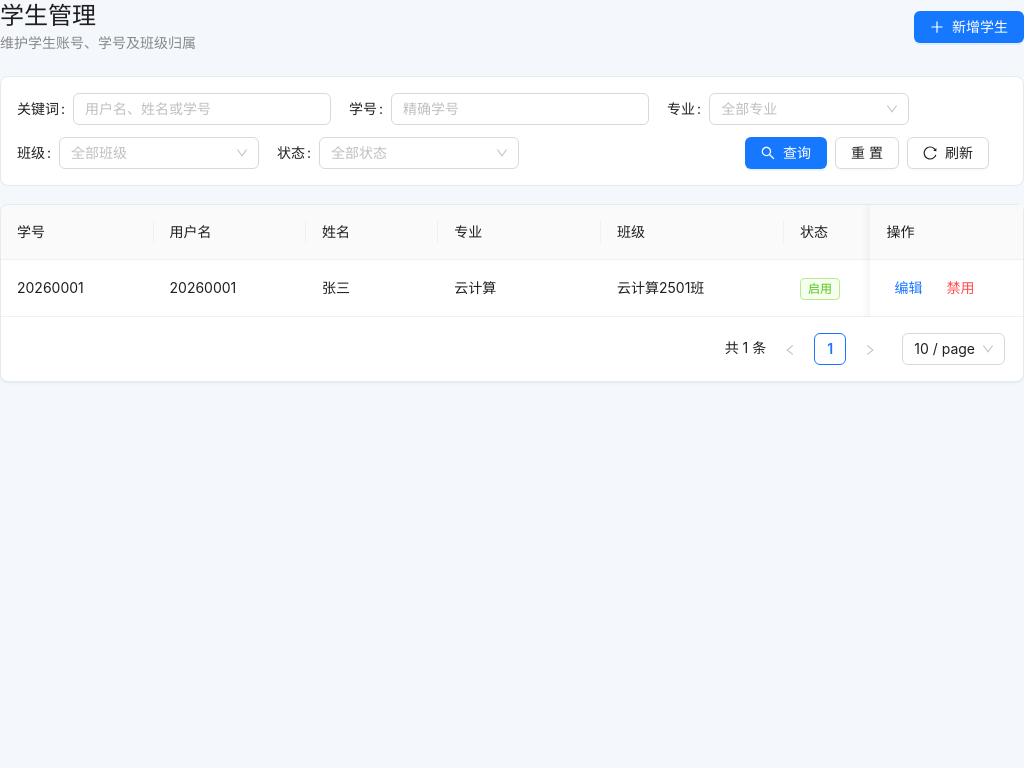
it: student management › loads active major options from the existing major API
The image size is (1024, 768).
Check: the text "张三" is shown, box [306,260,438,317]
Click the button "新增学生" at (969, 27), box [914,11,1023,43]
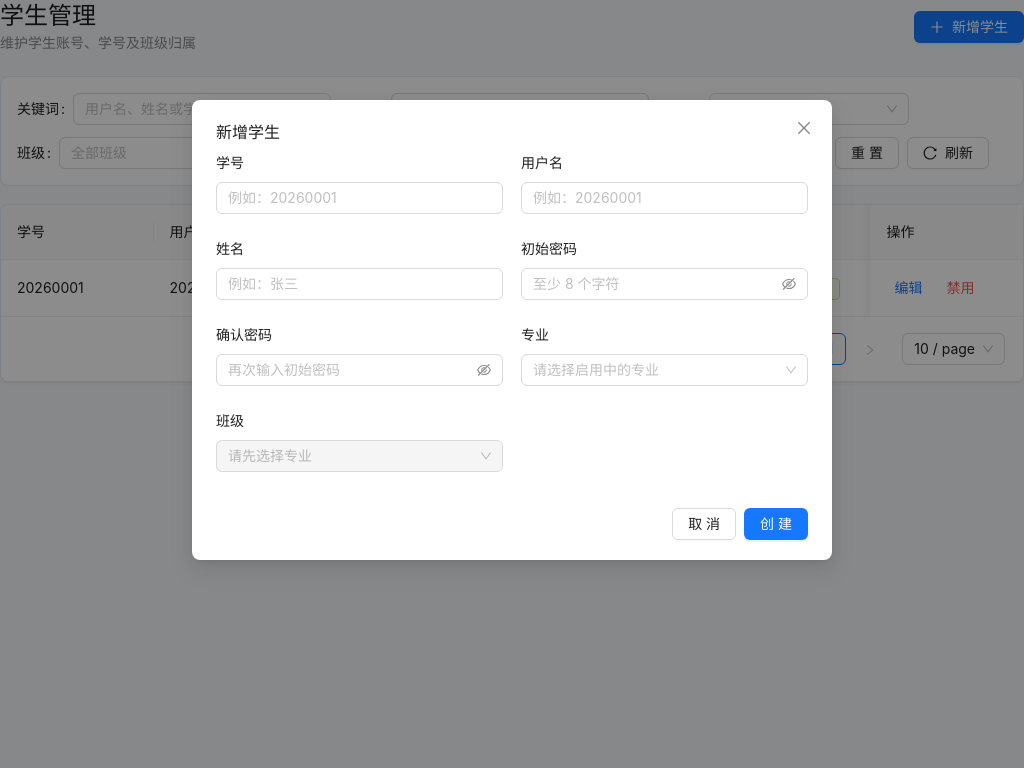
Click the dropdown labelled "专业" at (656, 370), box [533,355,778,385]
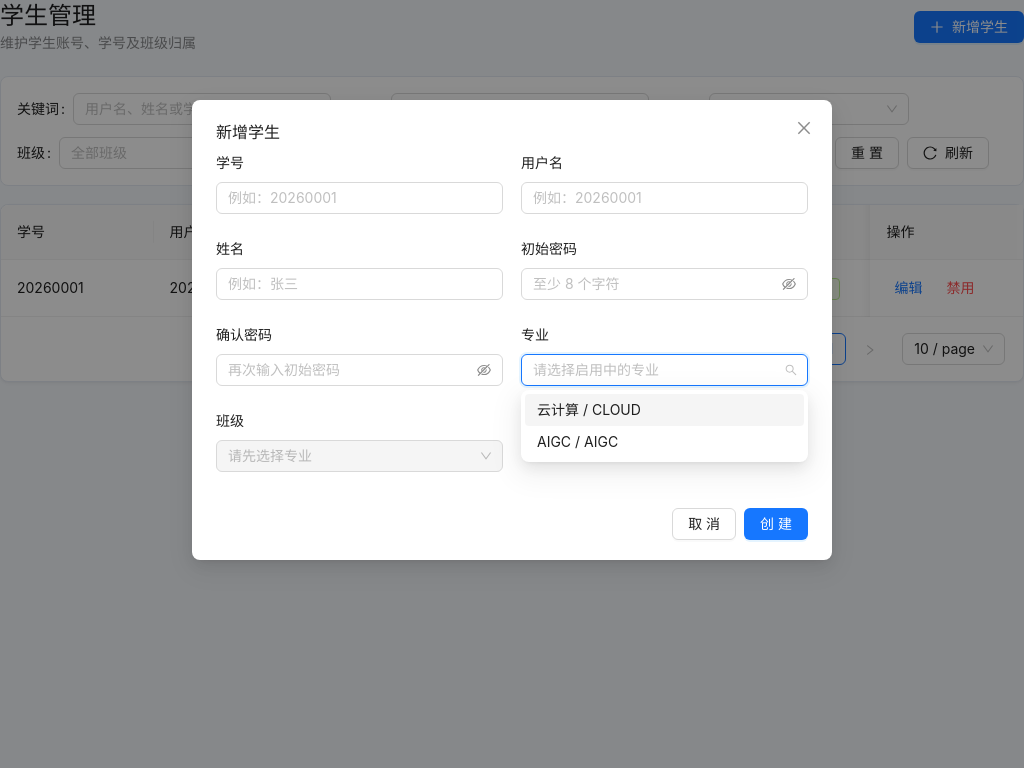
Check: the text "云计算 / CLOUD" is shown, box [537,401,641,418]
